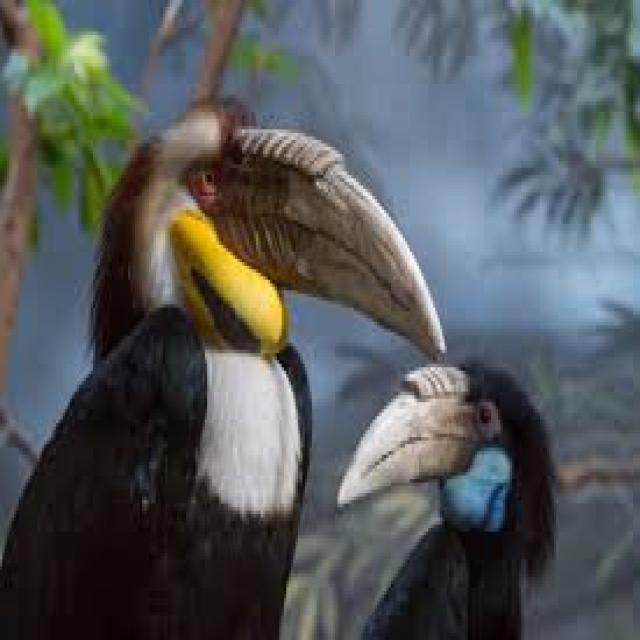Hornbill: (0, 103, 448, 640), (338, 353, 558, 640)
